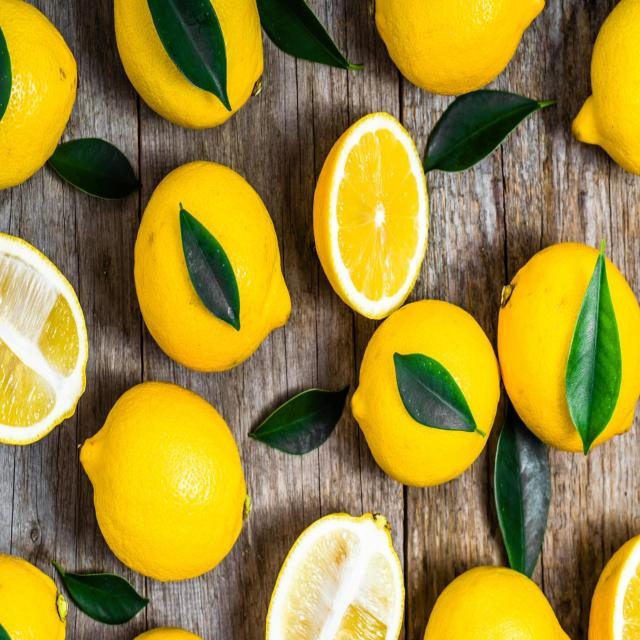lemon: (76, 372, 258, 588), (343, 295, 506, 490), (302, 105, 434, 322)
